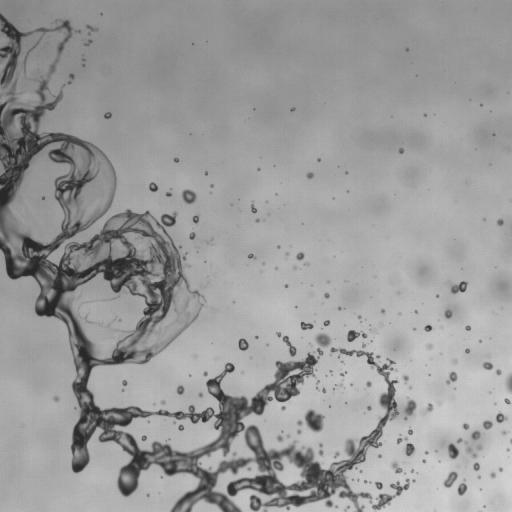droplet: (297, 409, 324, 432), (443, 471, 457, 487), (347, 330, 366, 341), (182, 189, 196, 203), (451, 281, 467, 293), (448, 443, 458, 459), (457, 482, 467, 495), (446, 372, 457, 383), (391, 462, 402, 473), (238, 338, 248, 350), (496, 412, 507, 422), (405, 443, 414, 455), (300, 322, 313, 329), (423, 404, 433, 413), (482, 420, 492, 429), (471, 430, 480, 439), (149, 182, 157, 191), (483, 362, 493, 369), (296, 252, 304, 260), (444, 310, 452, 318), (177, 385, 184, 394), (375, 482, 382, 489), (424, 325, 432, 331), (473, 462, 479, 470), (104, 112, 111, 118), (306, 172, 313, 178), (189, 232, 195, 239), (462, 423, 469, 429), (193, 215, 198, 223), (497, 219, 503, 225), (504, 398, 510, 404), (251, 205, 256, 212), (248, 253, 255, 258), (403, 375, 408, 382), (323, 320, 329, 325), (277, 435, 282, 441), (318, 449, 323, 455), (86, 40, 91, 45), (69, 74, 74, 79), (174, 157, 179, 162), (324, 293, 329, 298), (496, 369, 501, 374), (122, 380, 127, 385), (366, 381, 371, 386), (53, 396, 58, 401), (178, 425, 183, 430), (397, 438, 402, 443), (477, 445, 482, 450), (334, 452, 339, 457), (490, 472, 495, 477), (408, 428, 412, 434), (399, 148, 403, 153), (166, 192, 171, 196), (465, 326, 470, 330), (427, 344, 432, 348), (465, 348, 469, 353), (142, 435, 146, 440), (457, 438, 462, 442), (23, 58, 26, 64), (453, 359, 457, 363), (161, 400, 165, 404), (281, 406, 285, 410), (367, 406, 371, 410), (199, 392, 202, 397), (203, 372, 207, 375), (297, 429, 300, 433), (502, 430, 505, 434), (499, 467, 502, 471), (256, 219, 259, 222), (381, 309, 384, 312), (322, 389, 325, 392), (378, 454, 381, 457), (422, 459, 425, 462), (77, 30, 80, 32), (291, 108, 294, 110), (318, 158, 320, 161), (285, 284, 287, 287), (338, 307, 341, 309), (358, 315, 360, 318), (377, 355, 379, 358), (341, 373, 344, 375), (316, 381, 319, 383), (319, 444, 322, 446), (425, 451, 427, 454), (30, 48, 32, 50), (205, 172, 207, 174), (305, 263, 307, 265), (255, 336, 257, 338), (405, 437, 407, 439), (478, 476, 480, 478)
ligament: (0, 13, 410, 511), (276, 332, 296, 356), (404, 399, 416, 419), (466, 447, 477, 458), (505, 373, 511, 393), (87, 25, 96, 31), (344, 506, 349, 511), (510, 439, 511, 443)
